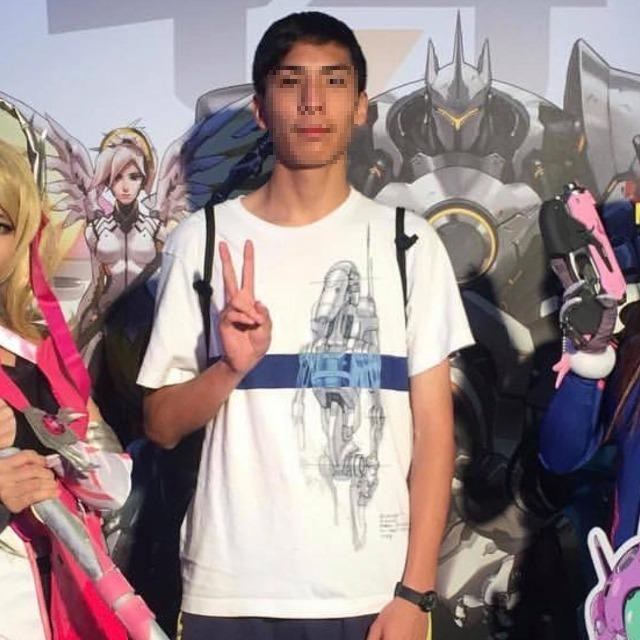NoHelmet: (248, 14, 374, 164)
NoVest: (177, 189, 454, 590)
